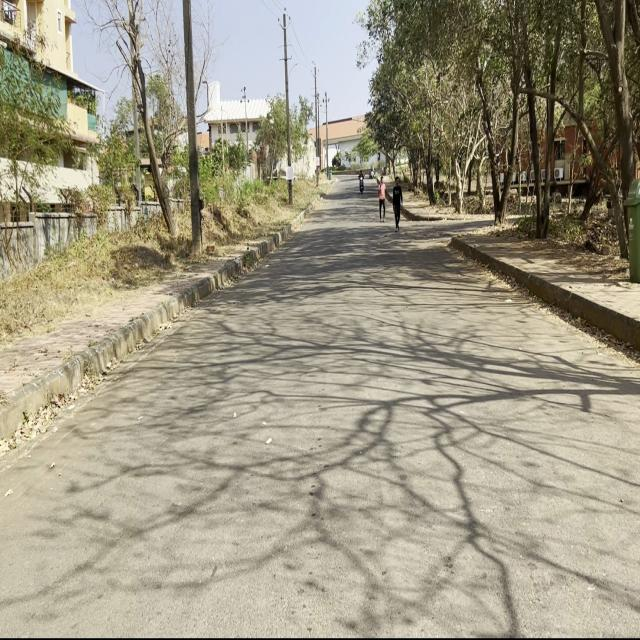Road: (3, 177, 639, 633)
